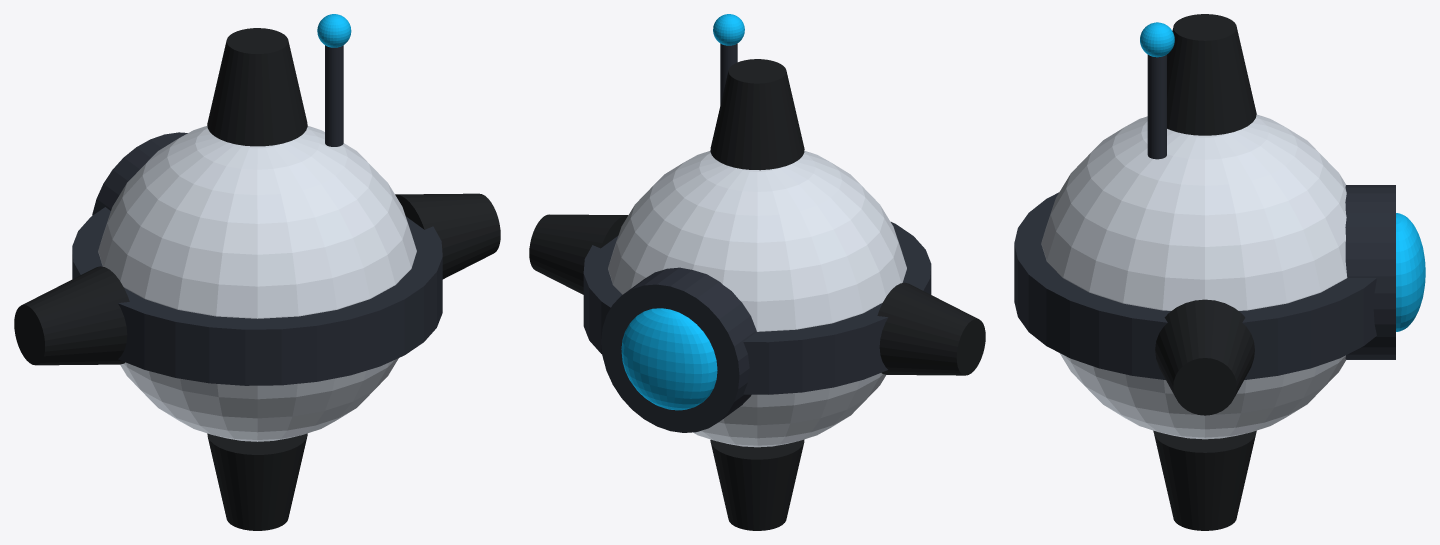
File: patrol_drone.obj
3 renders of one model, left to right at view 1: azimuth 30°, elevation 25°; view 2: azimuth 150°, elevation 25°; view 3: azimuth 270°, elevation 25°, orthographic. The views are drawn at different scales.
Visible parts, largest first — view 1: patrol_drone; view 2: patrol_drone; view 3: patrol_drone.
Boxes of the visible parts, x1=… form: patrol_drone: x1=14, y1=14, x2=500, y2=530; patrol_drone: x1=529, y1=14, x2=985, y2=530; patrol_drone: x1=1014, y1=14, x2=1425, y2=530.
Bounding box in the file's own units: 0.68 × 0.722 × 0.5175.
